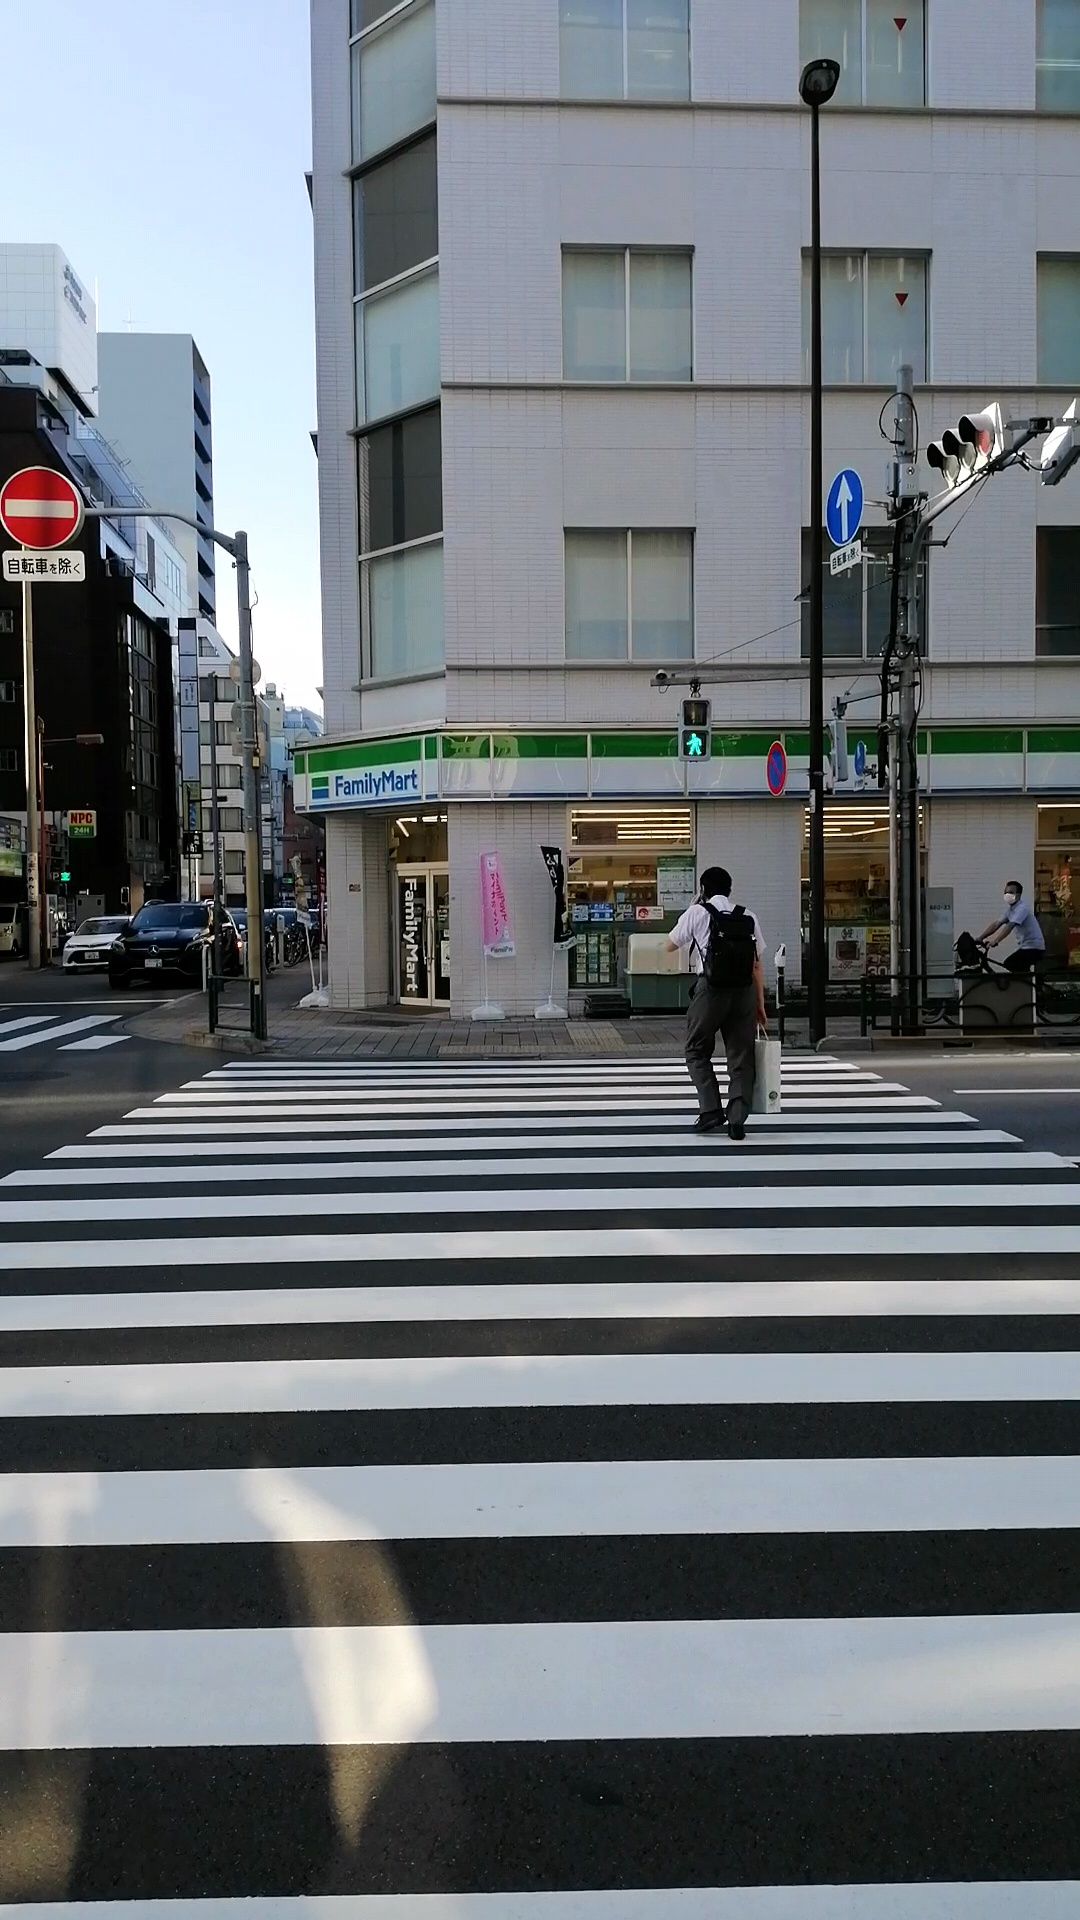green: (676, 698, 712, 764)
